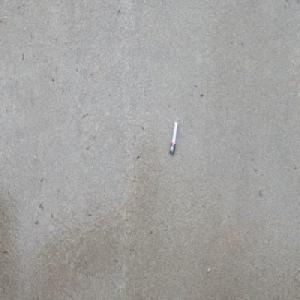Battery: (170, 121, 178, 155)
